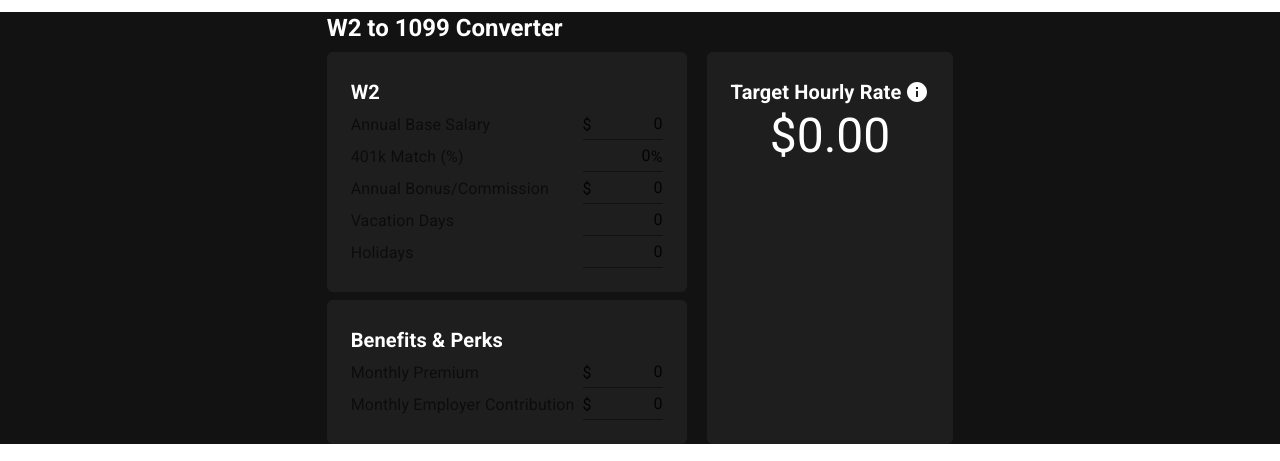
Test: Page › checks calculator output for base salary and vacation days
Replace the text in the field labelled "Annual Base Salary" with "100000" at (627, 124), box [592,108,662,140]
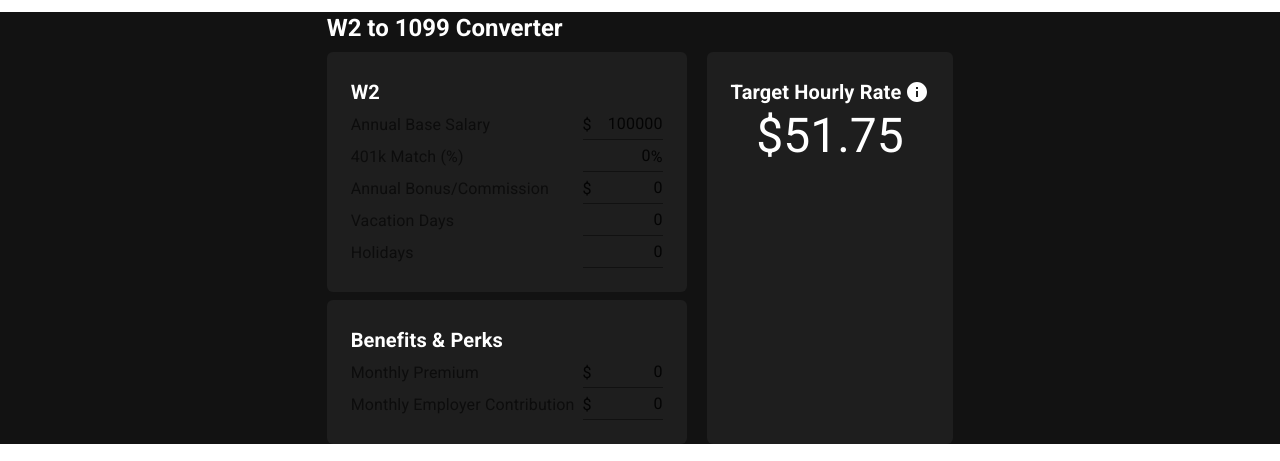
Replace the text in the field labelled "Vacation Days" with "15" at (623, 220), box [583,204,663,236]
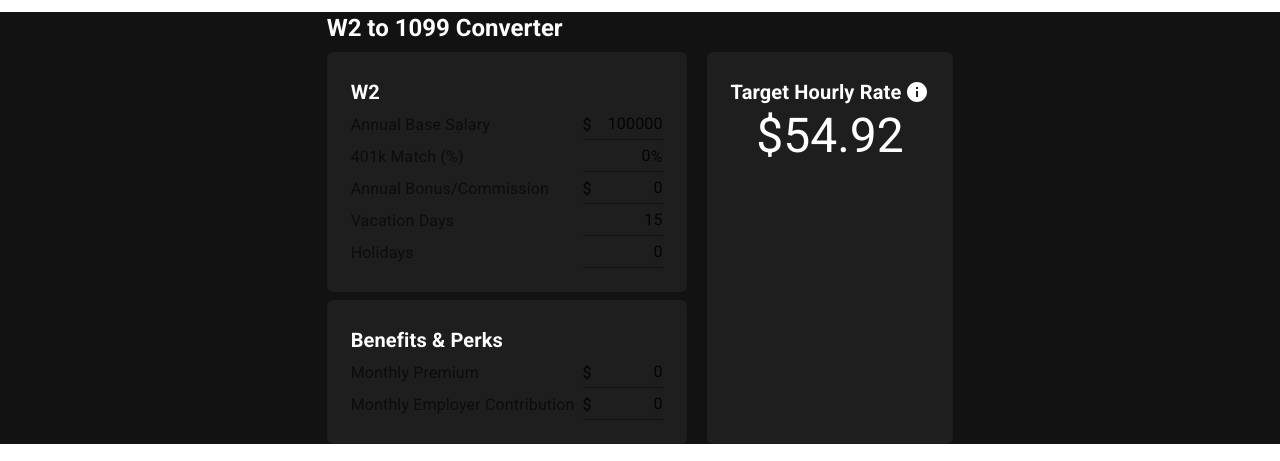
Expected: the heading named "Target Hourly Rate" reads "$54.92", [756,108,904,164]
